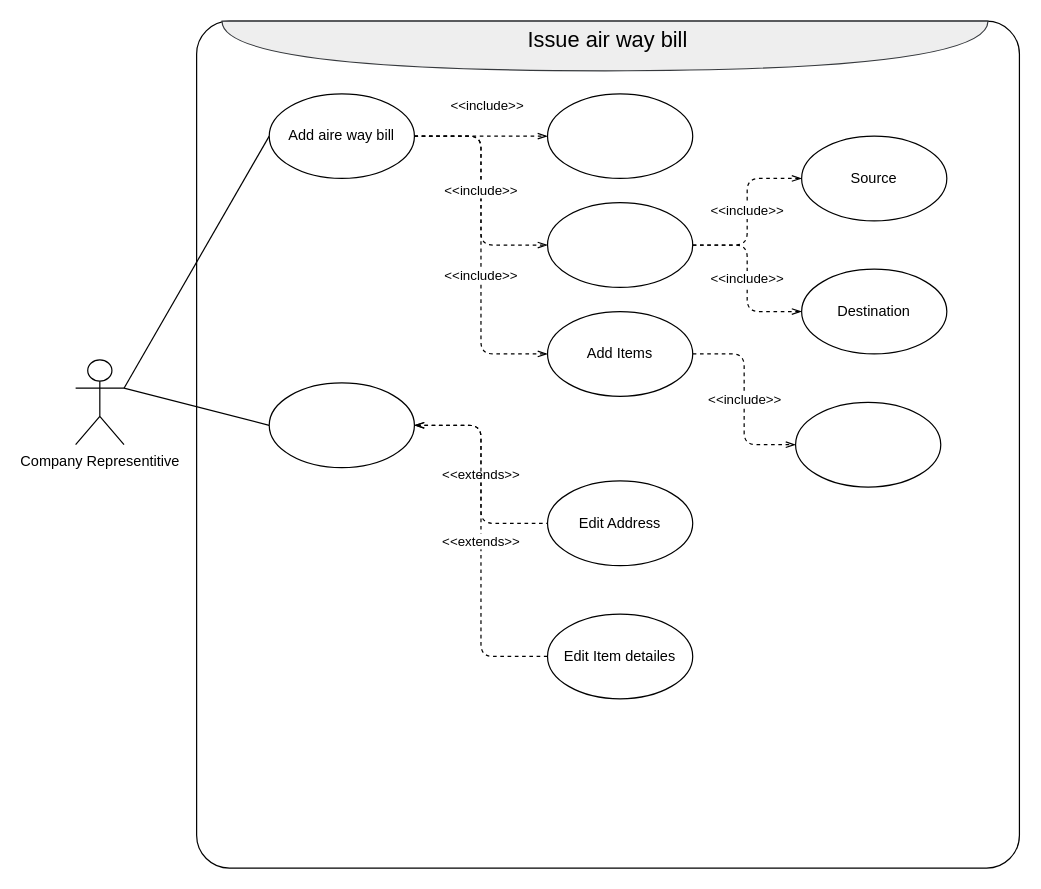
This 1041x889 diagram has some shape labels left out. Each missing label, with the box of its shape:
Add address: (546, 201, 693, 287)
Edit aire way bill: (268, 382, 414, 468)
Register Air Way Bill Betails: (546, 93, 693, 178)
Wight Must be entered: (794, 401, 941, 487)
